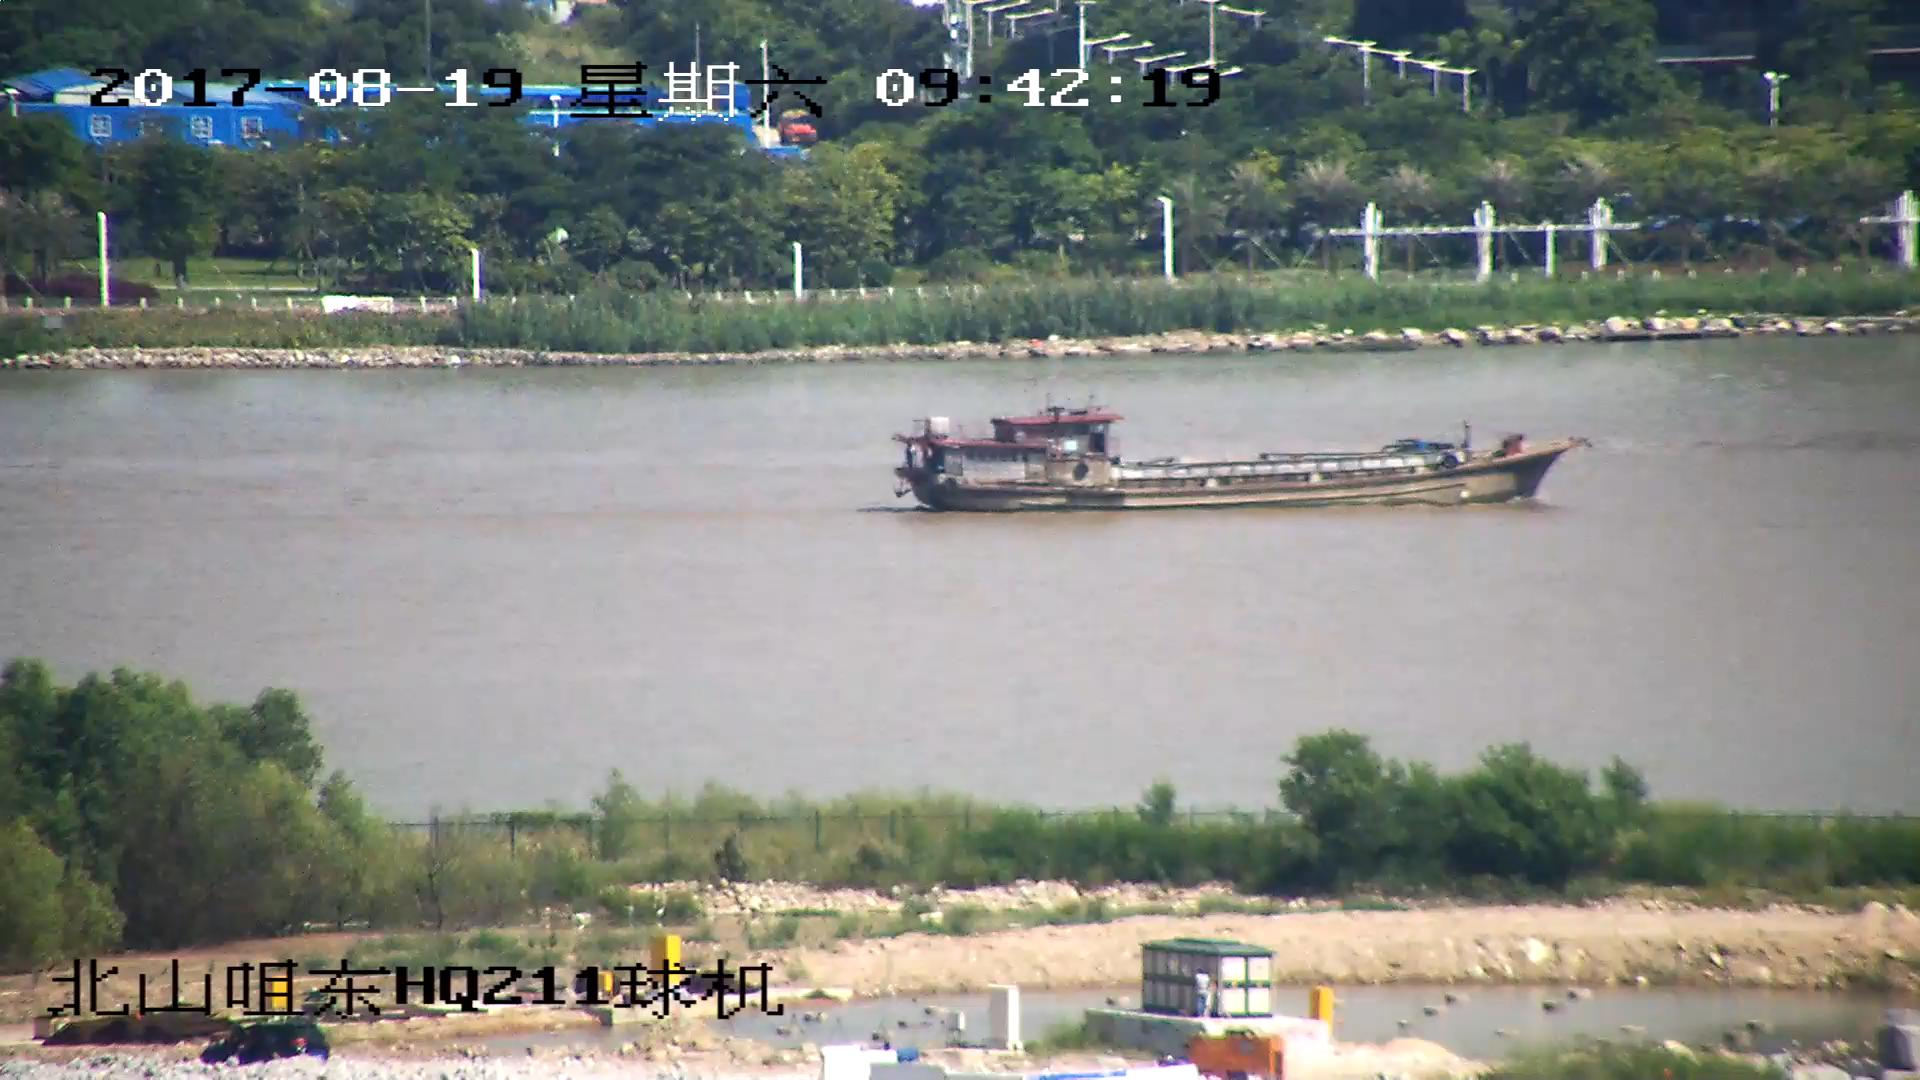fishing boat: (888, 414, 1579, 516)
